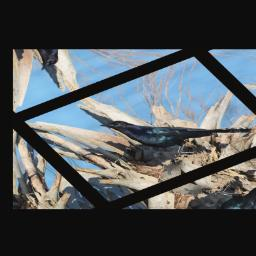Crow: (99, 85, 256, 175)
